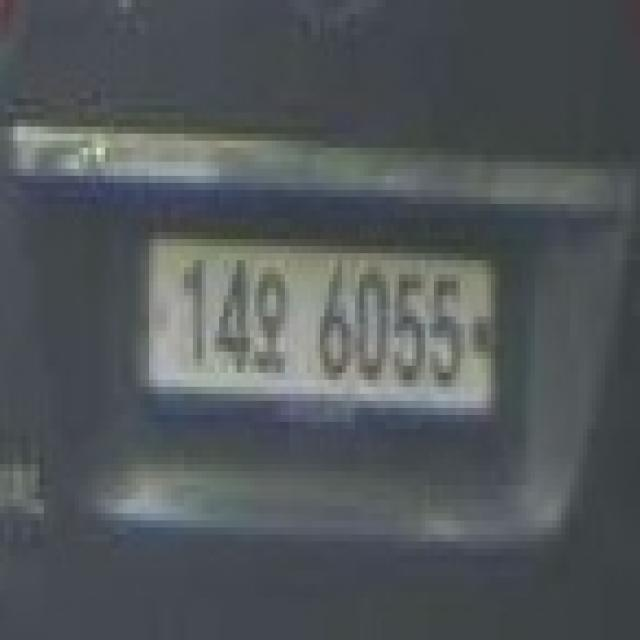0: (355, 260, 395, 394)
1: (176, 246, 210, 380)
4: (210, 246, 254, 387)
5: (390, 267, 430, 394), (430, 274, 469, 394)
6: (311, 253, 355, 387)
license_plate: (136, 225, 508, 436)
o: (250, 260, 298, 380)
